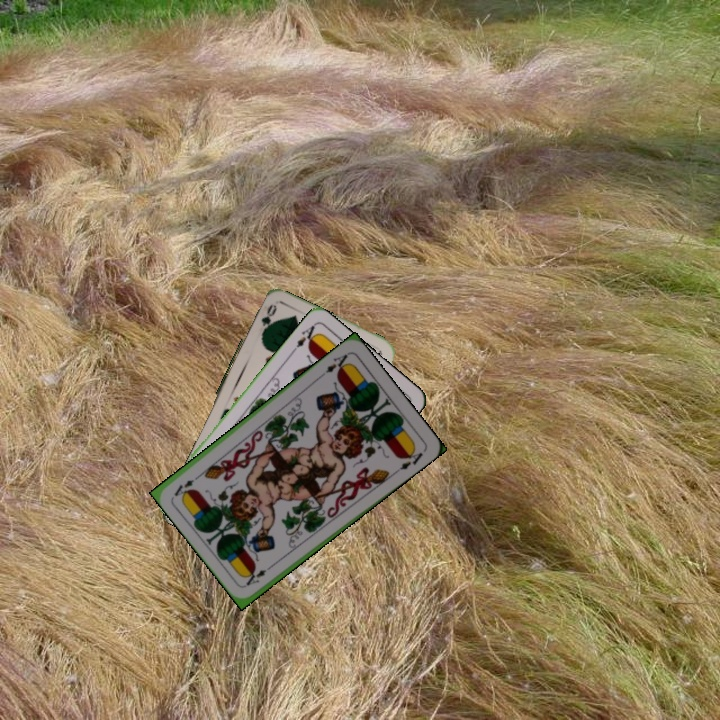EA: (288, 320, 321, 355), (317, 349, 353, 379), (242, 560, 277, 588)
GO: (257, 300, 280, 341)
